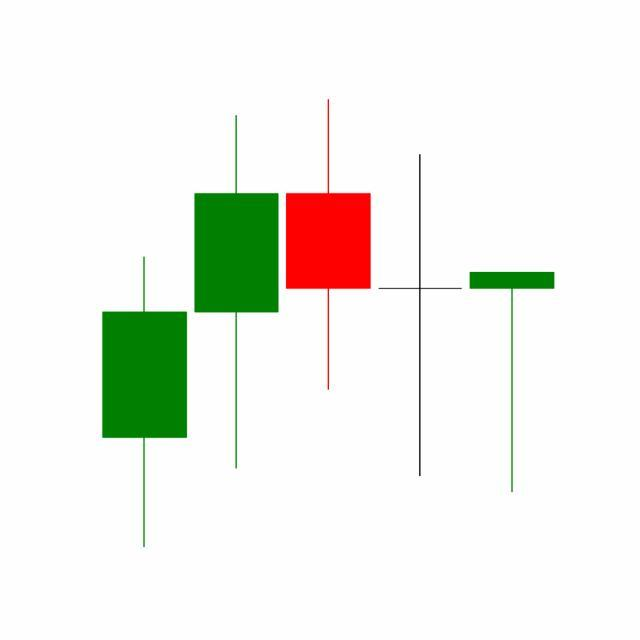Dragonfly Doji: (466, 270, 559, 496)
